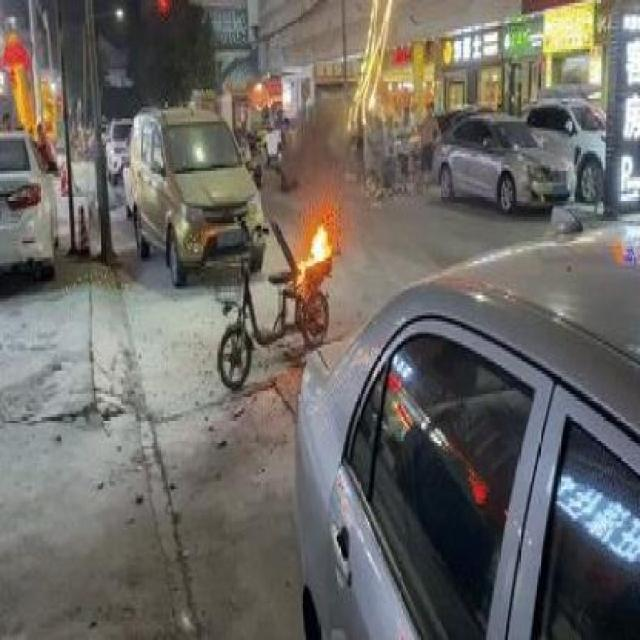Fire: (297, 218, 334, 268)
Smoke: (290, 118, 341, 228)
